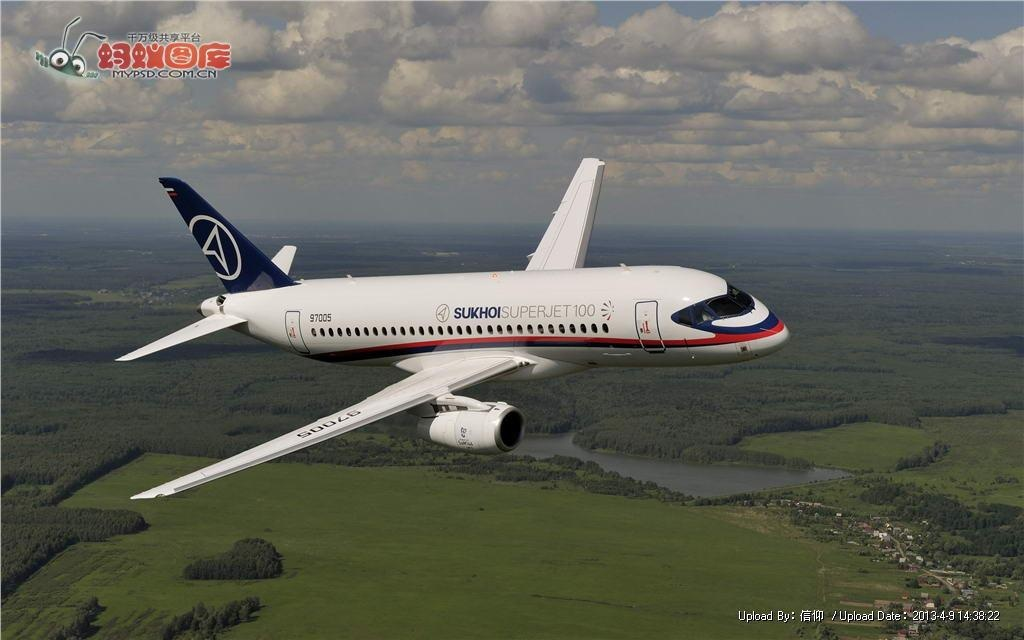airplane: (112, 158, 794, 503)
